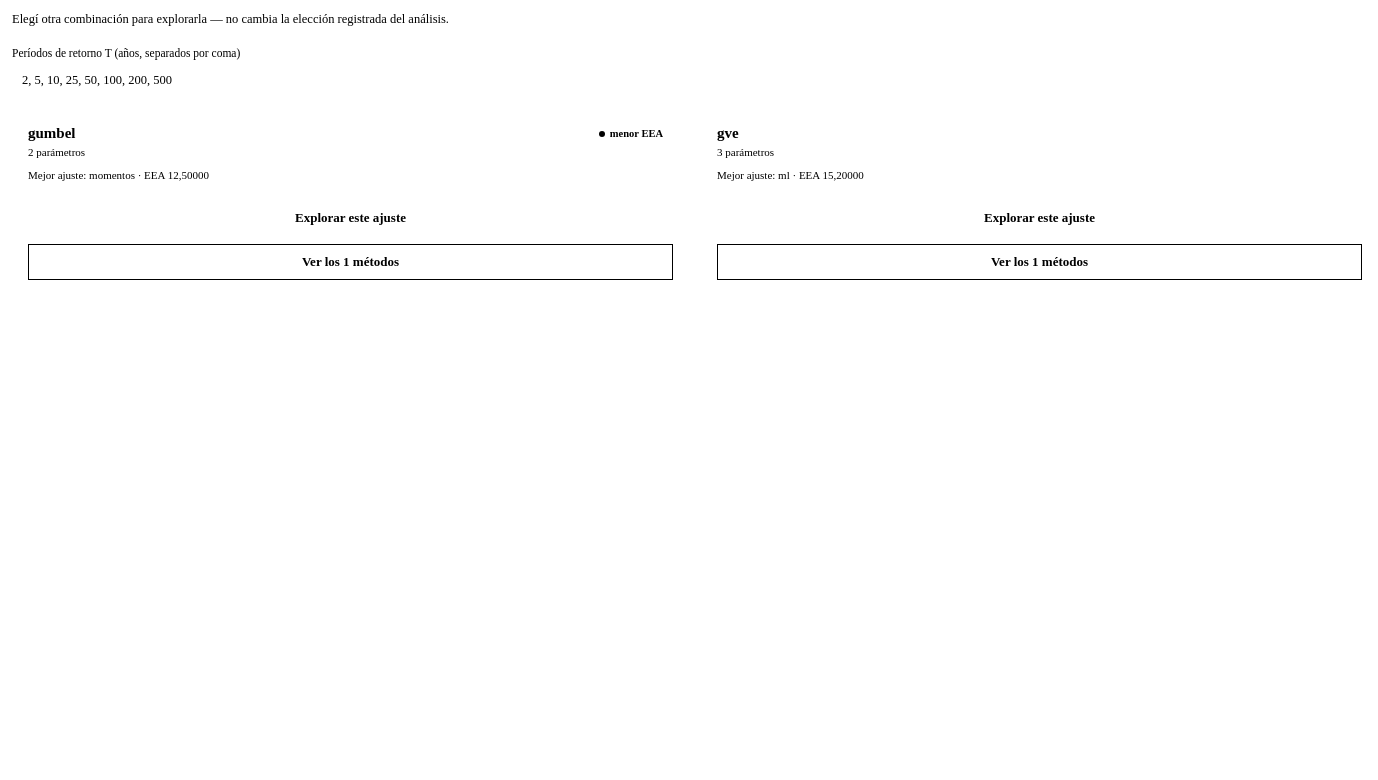
Etapa2Explorador › una exploración exitosa limpia el error de la anterior
Click the button "Explorar este ajuste" below "momentos".
click(350, 218)  # box [28,200,673,236]
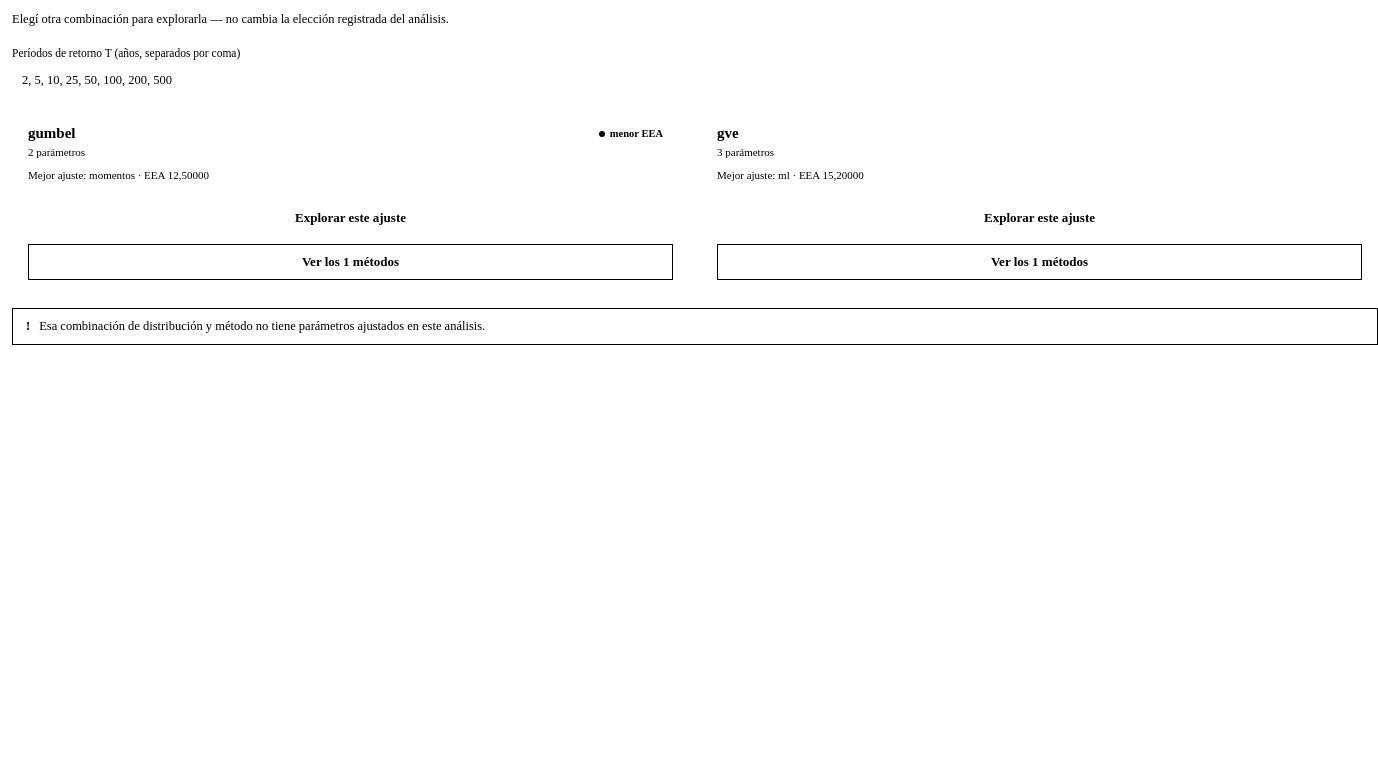
expect the message is shown: met, box [12,308,1377,345]
Click the button "Explorar este ajuste" below "momentos".
click(350, 218)  # box [28,200,673,236]
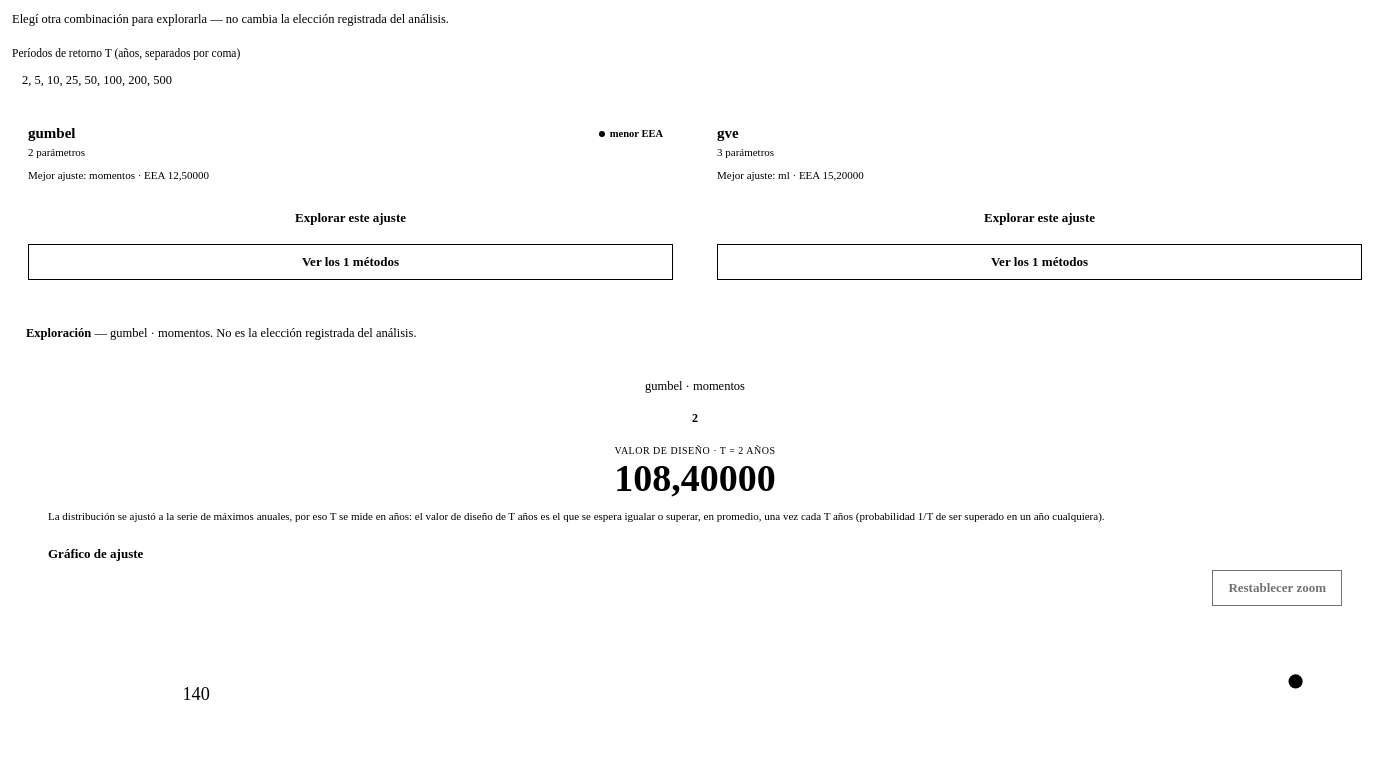
expect the text "No es la elección registrada" is shown: met, box [210,326,417,340]
expect the message is gone: met
